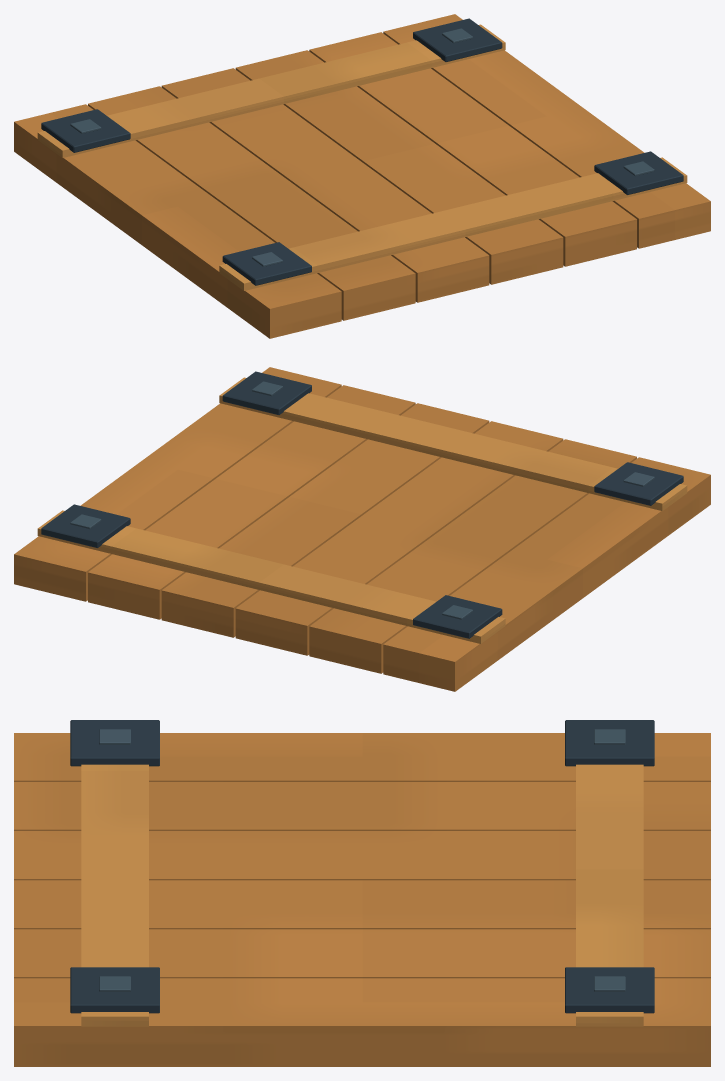
Rendered from SM_VMF_Prop_StackableCrate_Lid.fbx.
3 views of the same model, one above another, from view 1: azimuth 30°, elevation 25°; view 2: azimuth 150°, elevation 25°; view 3: azimuth 270°, elevation 25° (orthographic). The views are drawn at different scales.
Visible parts, largest first — view 1: SM_VMF_Prop_StackableCrate_Lid_Boards, SM_VMF_Prop_StackableCrate_Lid_Battens, SM_VMF_Prop_StackableCrate_Lid_Straps, SM_VMF_Prop_StackableCrate_Lid_Rivets; view 2: SM_VMF_Prop_StackableCrate_Lid_Boards, SM_VMF_Prop_StackableCrate_Lid_Battens, SM_VMF_Prop_StackableCrate_Lid_Straps, SM_VMF_Prop_StackableCrate_Lid_Rivets; view 3: SM_VMF_Prop_StackableCrate_Lid_Boards, SM_VMF_Prop_StackableCrate_Lid_Battens, SM_VMF_Prop_StackableCrate_Lid_Straps, SM_VMF_Prop_StackableCrate_Lid_Rivets.
Boxes of the visible parts, <box> form: SM_VMF_Prop_StackableCrate_Lid_Boards: <box>14,14,710,338</box>; SM_VMF_Prop_StackableCrate_Lid_Battens: <box>37,24,687,290</box>; SM_VMF_Prop_StackableCrate_Lid_Straps: <box>41,18,683,285</box>; SM_VMF_Prop_StackableCrate_Lid_Rivets: <box>70,28,654,266</box>; SM_VMF_Prop_StackableCrate_Lid_Boards: <box>14,367,710,691</box>; SM_VMF_Prop_StackableCrate_Lid_Battens: <box>37,377,687,643</box>; SM_VMF_Prop_StackableCrate_Lid_Straps: <box>41,371,683,638</box>; SM_VMF_Prop_StackableCrate_Lid_Rivets: <box>70,381,654,619</box>; SM_VMF_Prop_StackableCrate_Lid_Boards: <box>14,733,710,1066</box>; SM_VMF_Prop_StackableCrate_Lid_Battens: <box>81,764,643,1026</box>; SM_VMF_Prop_StackableCrate_Lid_Straps: <box>70,720,654,1013</box>; SM_VMF_Prop_StackableCrate_Lid_Rivets: <box>99,729,625,991</box>.
Size of the model in its own units: 62 by 6 by 62.
Materials: 1 (1 with a texture image).
